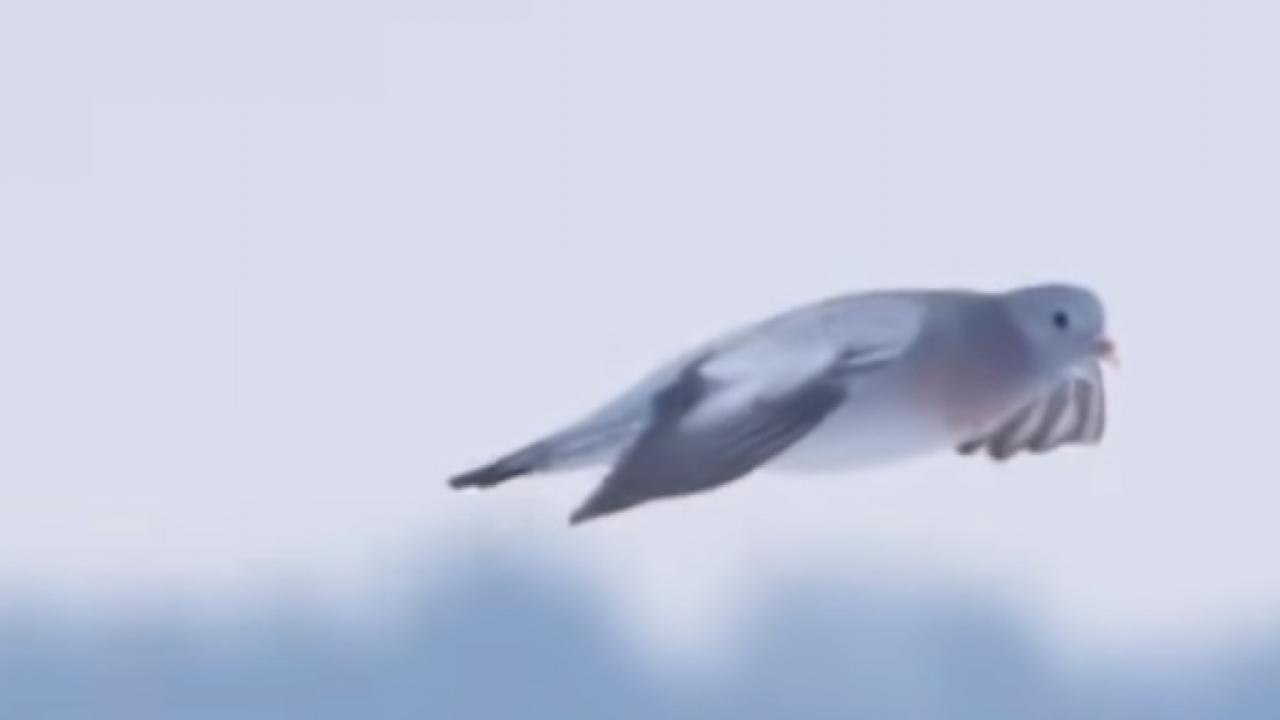Bird: (434, 274, 1132, 534)
